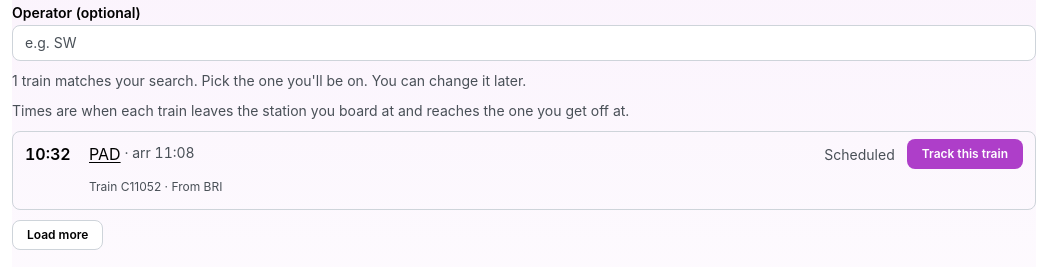
Test case: JourneyLegCandidates › operator filter › resets pagination (drops existing rows and nextCursor) when the operator filter changes
Expected: the text "Train C11052 · From BRI" is shown, x1=89 y1=179 x2=222 y2=194
Expected: the button "Load more" is shown, x1=12 y1=220 x2=103 y2=250
Type "gw" into the dropdown labelled "Operator (optional)" at point(524, 43), box x1=12 y1=25 x2=1036 y2=61
Wait 250 ms
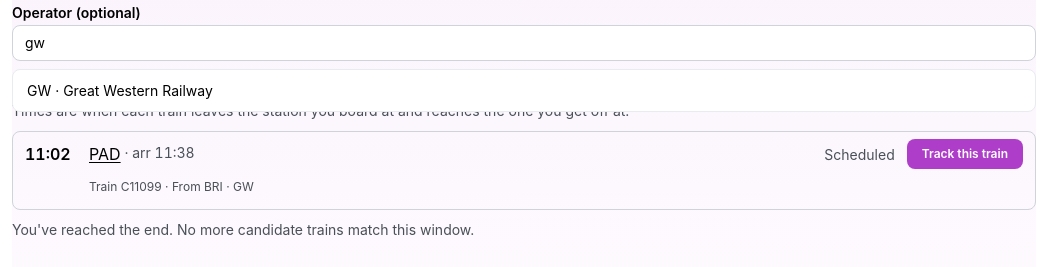
Result: the text "Train C11099 · From BRI · GW" is shown at x1=89 y1=179 x2=254 y2=194
Result: the text "Train C11052 · From BRI" is gone
Result: the button "Load more" is gone
